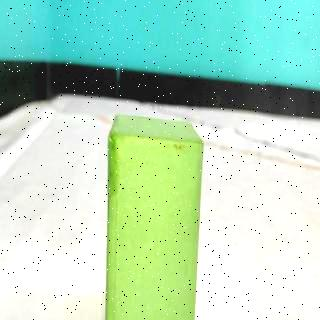greenbox: (106, 111, 208, 320)
